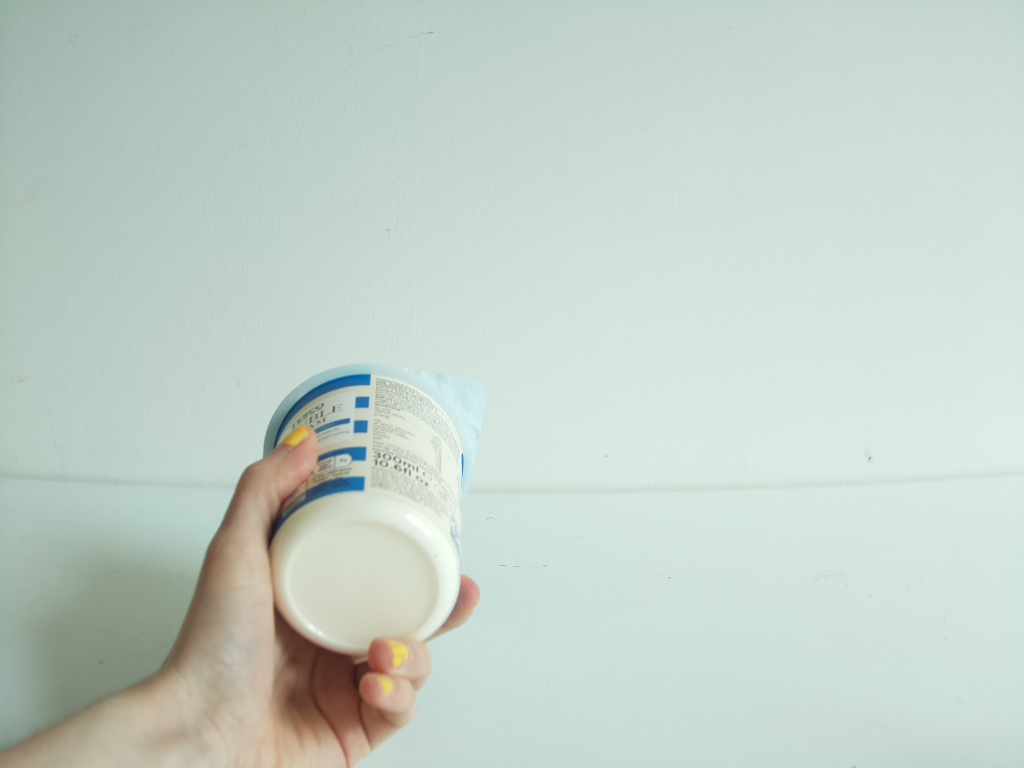cream: (268, 363, 475, 656)
